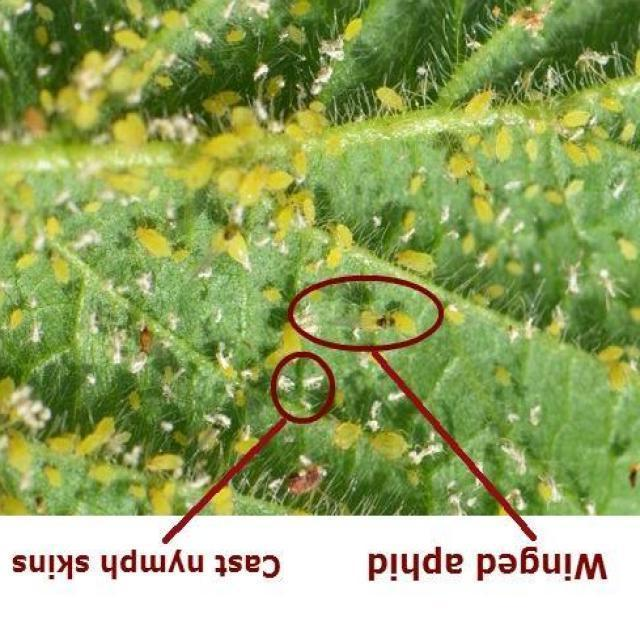aphid: (52, 53, 136, 134), (33, 414, 126, 478), (331, 414, 413, 462), (124, 206, 187, 265), (267, 188, 317, 245), (596, 336, 640, 399), (264, 320, 308, 376), (210, 225, 252, 271), (358, 307, 418, 338), (323, 223, 356, 270), (562, 137, 602, 167), (201, 91, 242, 118), (210, 484, 234, 516), (444, 305, 464, 327)
